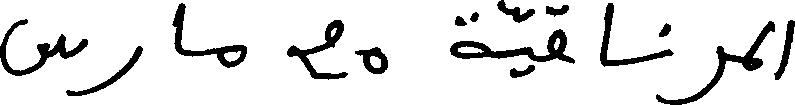X: (0, 14, 86, 100), (288, 15, 345, 84), (674, 41, 723, 104), (88, 41, 142, 98), (452, 7, 487, 63), (744, 16, 771, 75), (776, 15, 794, 84), (548, 0, 565, 65), (660, 18, 672, 104), (599, 0, 613, 71), (362, 42, 387, 78), (221, 40, 246, 72), (175, 0, 184, 60), (526, 4, 533, 79)
